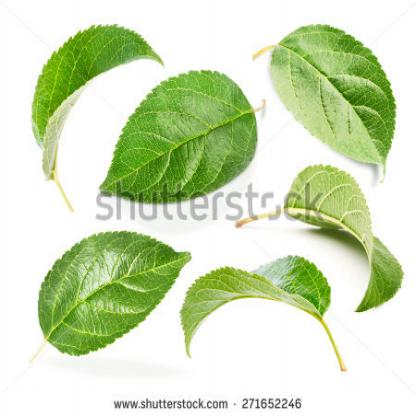apple leaf: (30, 11, 176, 188), (101, 63, 268, 200), (263, 16, 403, 177)
